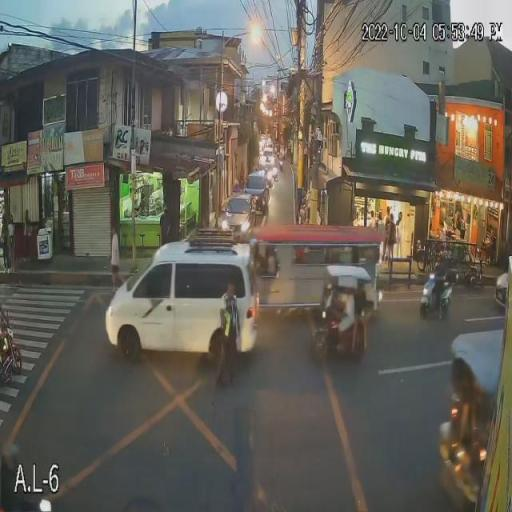motorcycle: (419, 271, 452, 320)
rider: (427, 251, 450, 303)
